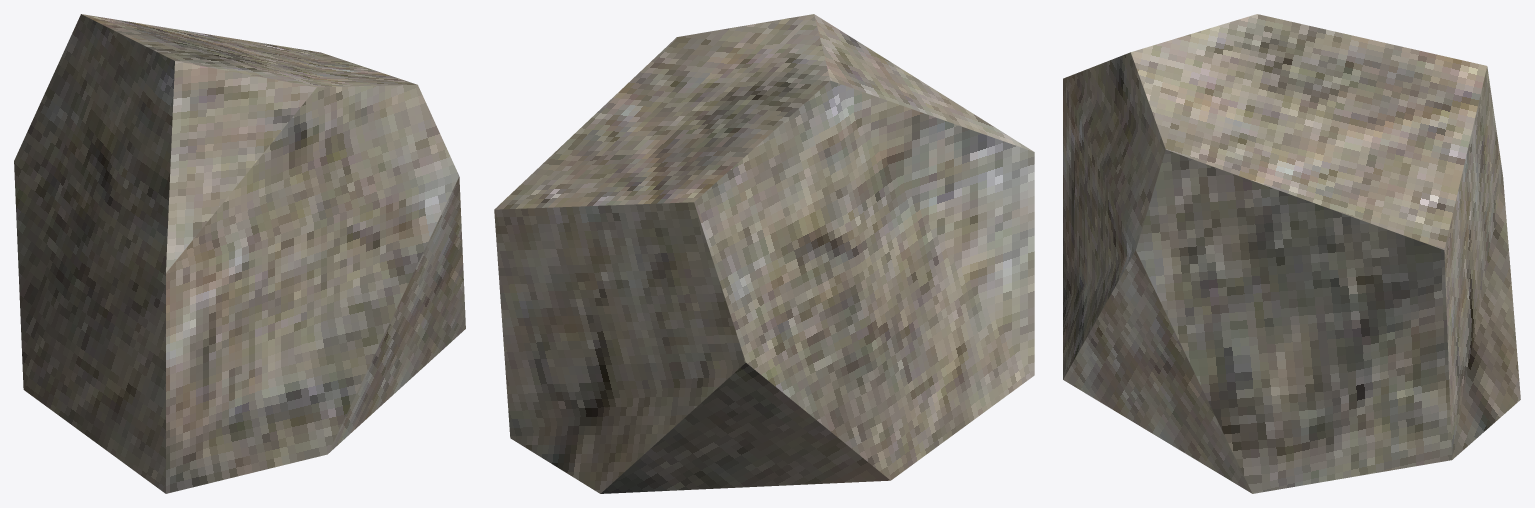
The model's file is simple_rock_-_ps1_low_poly.glb.
The picture shows the model from 3 angles, left to right: view 1: azimuth 30°, elevation 25°; view 2: azimuth 150°, elevation 25°; view 3: azimuth 270°, elevation 25°; orthographic projection.
Visible parts, largest first — view 1: Cube; view 2: Cube; view 3: Cube.
Part boxes in pixels (x1,y1,x2,y2): Cube: (14, 14, 465, 493); Cube: (494, 14, 1034, 493); Cube: (1063, 14, 1520, 493).
Size of the model in its own units: 2 by 1.63 by 2.
Materials: 1 (1 with a texture image).
